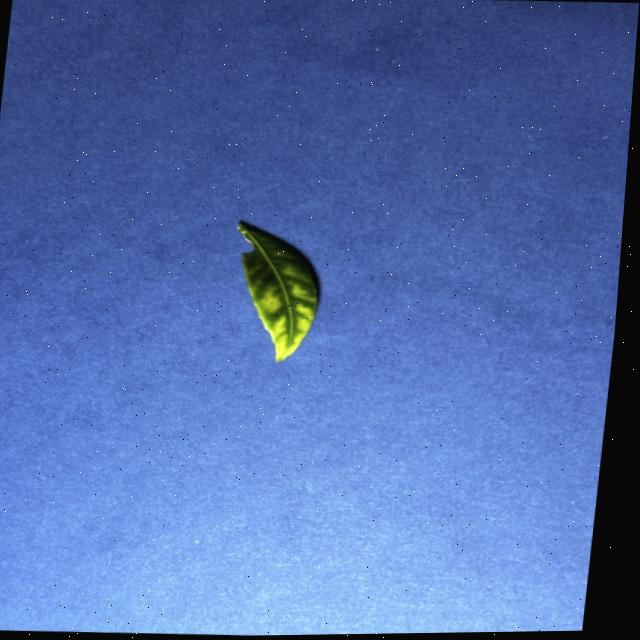greening: (236, 222, 316, 360)
